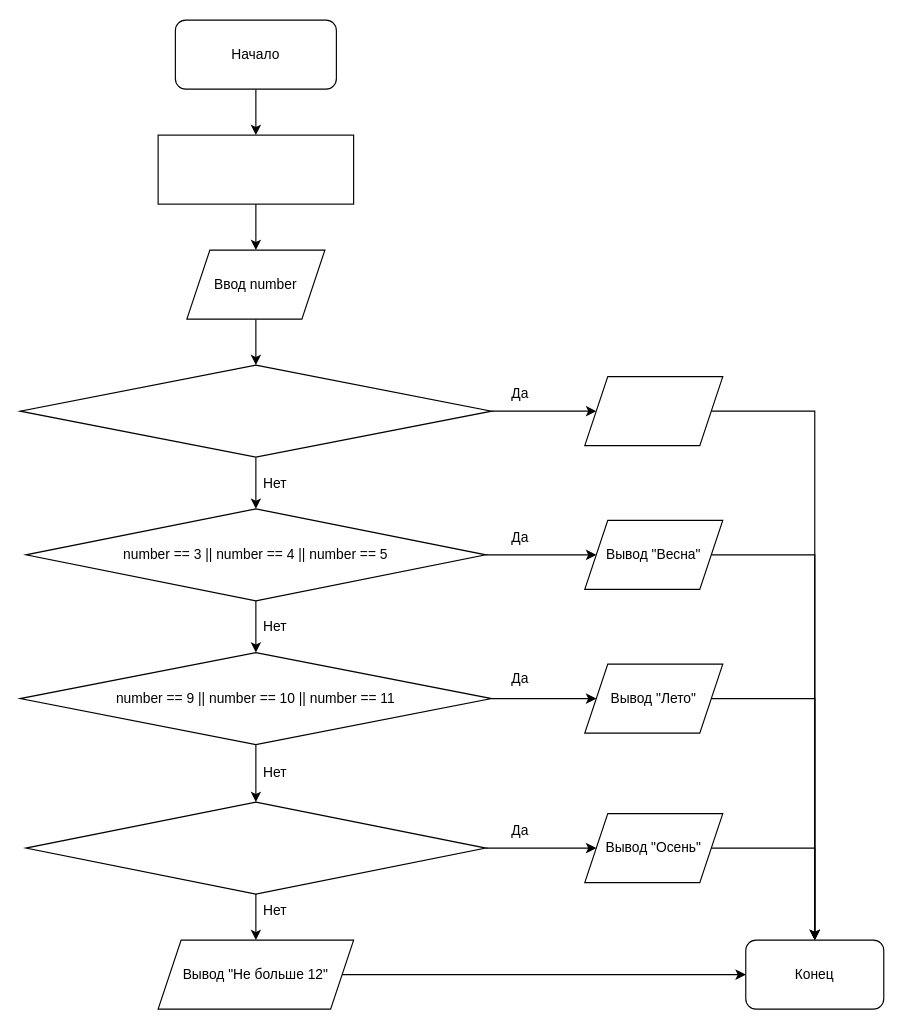
Image size: 904x1029. Some labels were removed from this diagram. The shapes that lost their labels are listed below. From the top down, each one's box as (x1, y1, x2, y2) in pixels, then its label:
(157, 134, 354, 204): setlocale(LC_ALL, ".UTF8")
(19, 364, 492, 457): number == 12 || number == 1 || number == 2
(584, 375, 723, 446): Вывод "Зима"
(25, 801, 486, 894): number == 6 || number == 7 || number == 8
